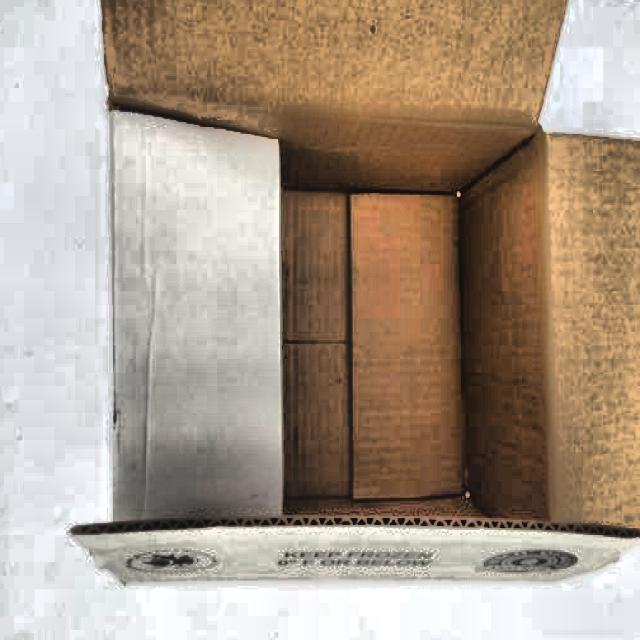cardboard: (67, 0, 640, 589)
